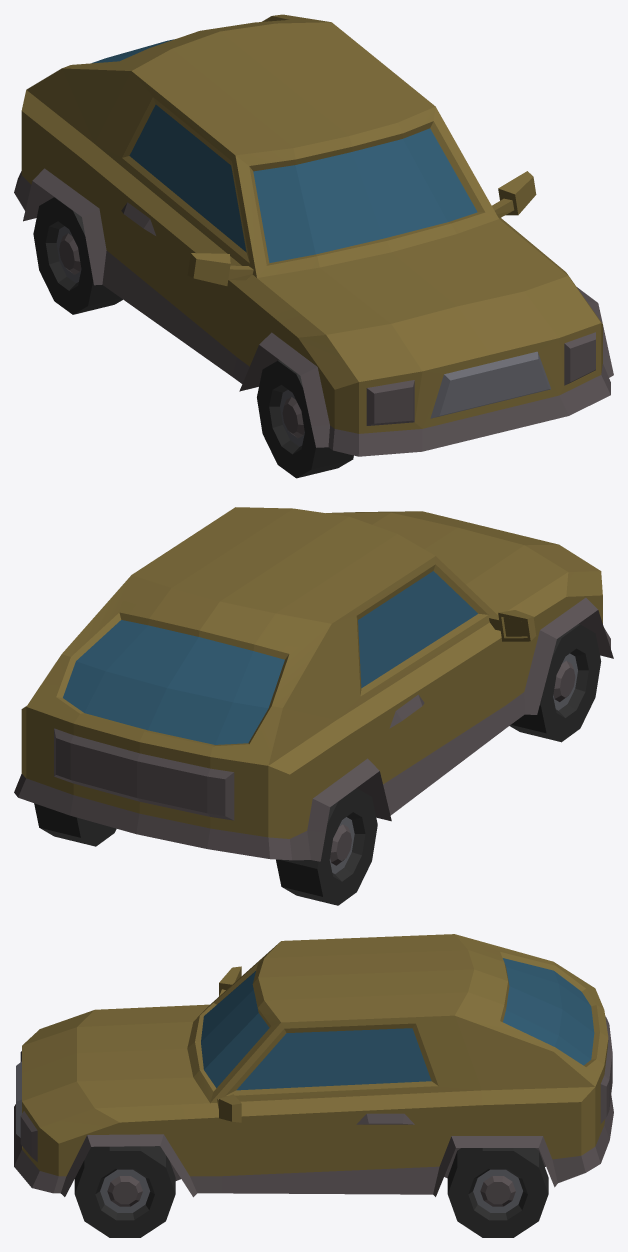
File: LP_VehicleJ.fbx
3 views of the same model, one above another, from view 1: azimuth 30°, elevation 25°; view 2: azimuth 150°, elevation 25°; view 3: azimuth 270°, elevation 25° (orthographic). The views are drawn at different scales.
Visible parts, largest first — view 1: VehicleJ; view 2: VehicleJ; view 3: VehicleJ.
Part boxes in pixels (x1,y1,x2,y2): VehicleJ: [14, 14, 613, 478]; VehicleJ: [14, 507, 613, 905]; VehicleJ: [14, 934, 613, 1237].
Bounding box in the file's own units: 179 × 126 × 326.
